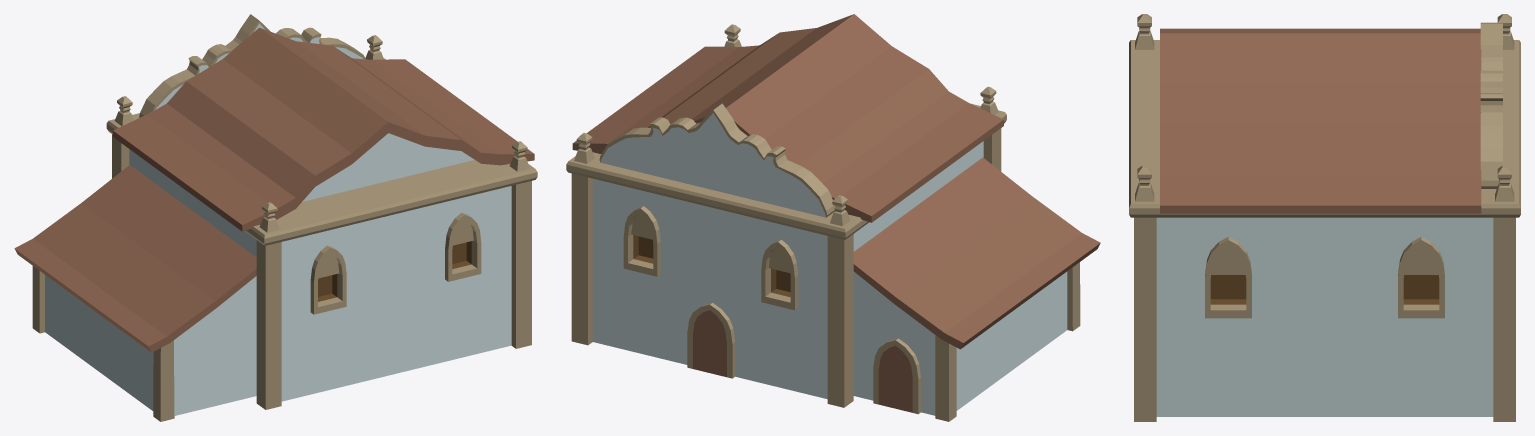
Rendered from church editado.fbx.
3 views of the same model, side by side, from view 1: azimuth 30°, elevation 25°; view 2: azimuth 150°, elevation 25°; view 3: azimuth 270°, elevation 25° (orthographic). The views are drawn at different scales.
Parts seen in each view (by area): view 1: roof_main, church_main, roof_2, church_2, t_adornment, l_adornment_main, t_church, t_window, l_adornment_2.001, t_adornment_4, l_adornment_2, curtain; view 2: roof_main, church_main, roof_2, t_church, church_2, l_adornment_main, t_adornment, door_main, door_2, f_window, l_adornment_2, t_adornment_4 (+2 smaller); view 3: church_main, roof_main, t_adornment, l_adornment_main, t_church, l_window, t_adornment_4, curtain.
Part boxes in pixels (bbox=[...]): roof_main: bbox=[113, 27, 534, 231]; church_main: bbox=[129, 149, 511, 401]; roof_2: bbox=[14, 165, 256, 352]; church_2: bbox=[45, 275, 256, 415]; t_adornment: bbox=[106, 58, 537, 245]; l_adornment_main: bbox=[112, 134, 531, 409]; t_church: bbox=[139, 14, 365, 117]; t_window: bbox=[310, 212, 481, 314]; l_adornment_2.001: bbox=[153, 340, 174, 421]; t_adornment_4: bbox=[114, 35, 529, 232]; l_adornment_2: bbox=[32, 266, 44, 333]; curtain: bbox=[318, 220, 473, 278]; roof_main: bbox=[572, 14, 1003, 222]; church_main: bbox=[592, 141, 983, 399]; roof_2: bbox=[853, 157, 1100, 349]; t_church: bbox=[599, 103, 835, 217]; church_2: bbox=[853, 271, 1067, 415]; l_adornment_main: bbox=[571, 128, 1001, 407]; t_adornment: bbox=[566, 103, 1006, 239]; door_main: bbox=[687, 302, 735, 378]; door_2: bbox=[873, 338, 920, 414]; f_window: bbox=[623, 206, 798, 310]; l_adornment_2: bbox=[935, 335, 956, 421]; t_adornment_4: bbox=[574, 24, 998, 226]; church_main: bbox=[1156, 217, 1493, 416]; roof_main: bbox=[1160, 28, 1481, 213]; t_adornment: bbox=[1129, 40, 1520, 217]; l_adornment_main: bbox=[1134, 217, 1515, 421]; t_church: bbox=[1480, 22, 1502, 188]; l_window: bbox=[1205, 237, 1444, 318]; t_adornment_4: bbox=[1135, 14, 1514, 201]; curtain: bbox=[1211, 246, 1438, 274].
Bounding box in the file's own units: 1236 × 779 × 873.
